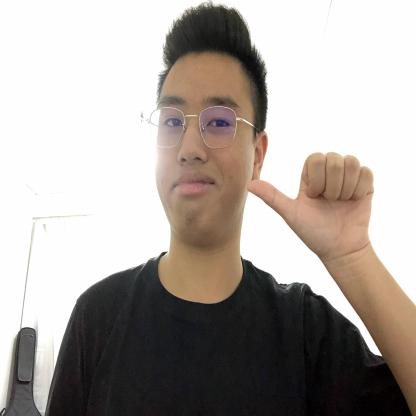right: (246, 151, 374, 267)
